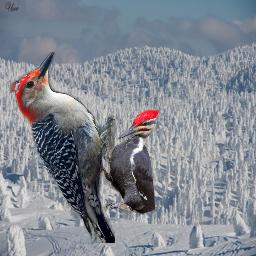Woodpecker: (10, 52, 115, 243), (90, 109, 159, 215)
